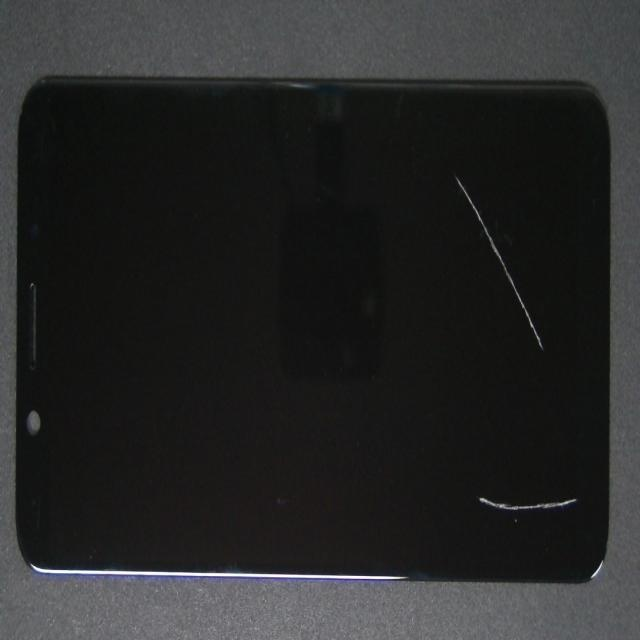scratch: (359, 258, 640, 640), (331, 270, 640, 418)
